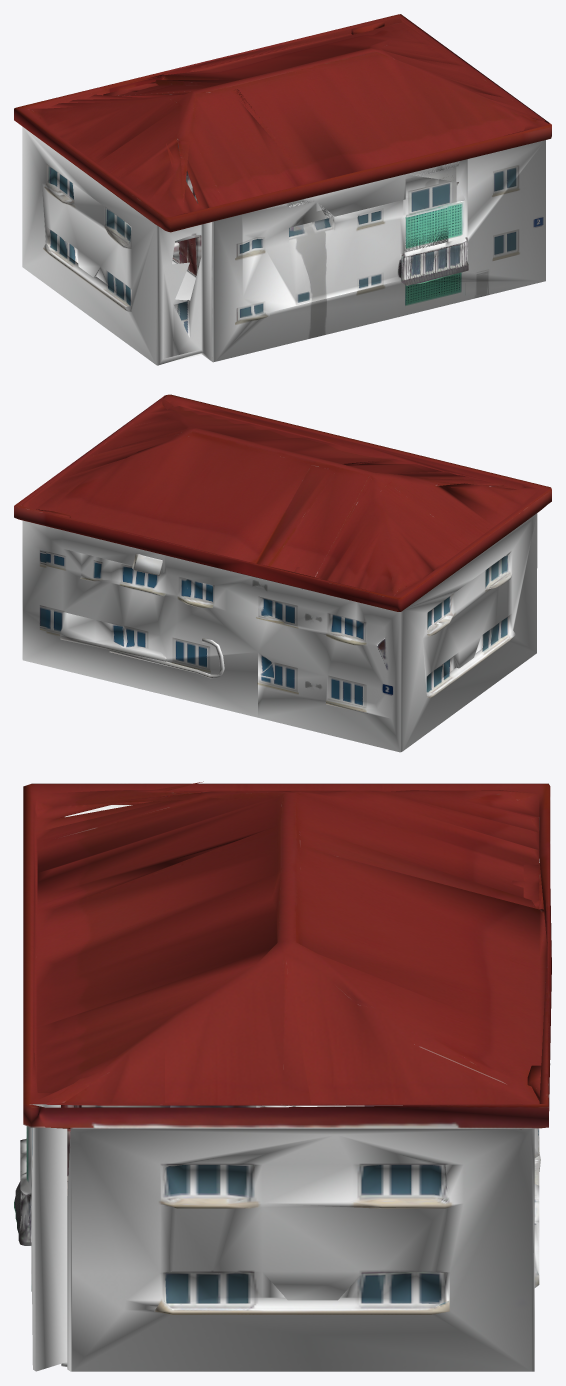
Rendered from bld_406278405.glb.
3 views of the same model, one above another, from view 1: azimuth 30°, elevation 25°; view 2: azimuth 150°, elevation 25°; view 3: azimuth 270°, elevation 25° (orthographic). The views are drawn at different scales.
Size of the model in its own units: 1.91 by 0.9511 by 1.34.
Materials: 1 (1 with a texture image).
